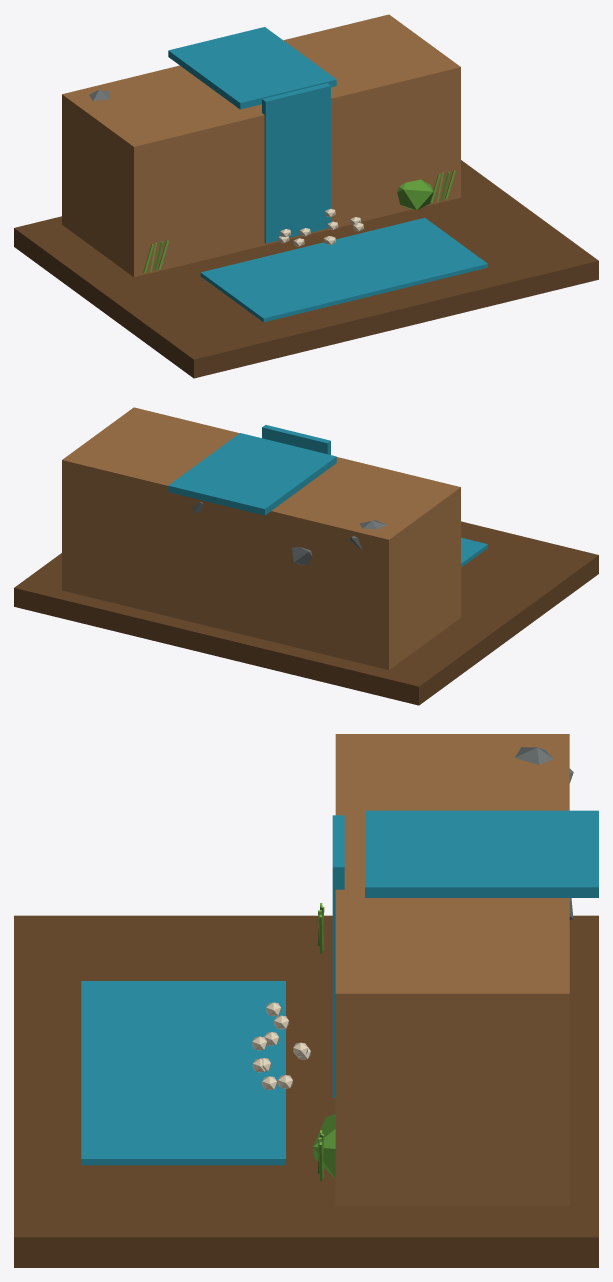
The model's file is small_waterfall.glb.
3 renders of one model, top to bottom at view 1: azimuth 30°, elevation 25°; view 2: azimuth 150°, elevation 25°; view 3: azimuth 270°, elevation 25°, orthographic. The views are drawn at different scales.
Parts seen in each view (by area): view 1: CliffCore, TerrainBase, WaterfallPool, Waterfall, UpperStream, CliffRock.018; view 2: CliffCore, TerrainBase, UpperStream, Waterfall, WaterfallPool; view 3: TerrainBase, CliffCore, WaterfallPool, UpperStream, Waterfall, CliffRock.018.
Part boxes in pixels (<box>): CliffCore: <box>62,14,460,277</box>; TerrainBase: <box>14,160,598,378</box>; WaterfallPool: <box>200,217,487,322</box>; Waterfall: <box>262,83,330,243</box>; UpperStream: <box>168,27,336,109</box>; CliffRock.018: <box>397,179,433,210</box>; CliffCore: <box>62,407,460,669</box>; TerrainBase: <box>14,521,598,705</box>; UpperStream: <box>168,433,336,515</box>; Waterfall: <box>262,425,330,454</box>; WaterfallPool: <box>461,537,487,567</box>; TerrainBase: <box>14,915,598,1267</box>; CliffCore: <box>335,734,569,1205</box>; WaterfallPool: <box>81,981,285,1165</box>; UpperStream: <box>365,810,598,897</box>; Waterfall: <box>332,815,344,1097</box>; CliffRock.018: <box>313,1114,335,1178</box>.
Bounding box in the file's own units: 13 × 5.01 × 10.
